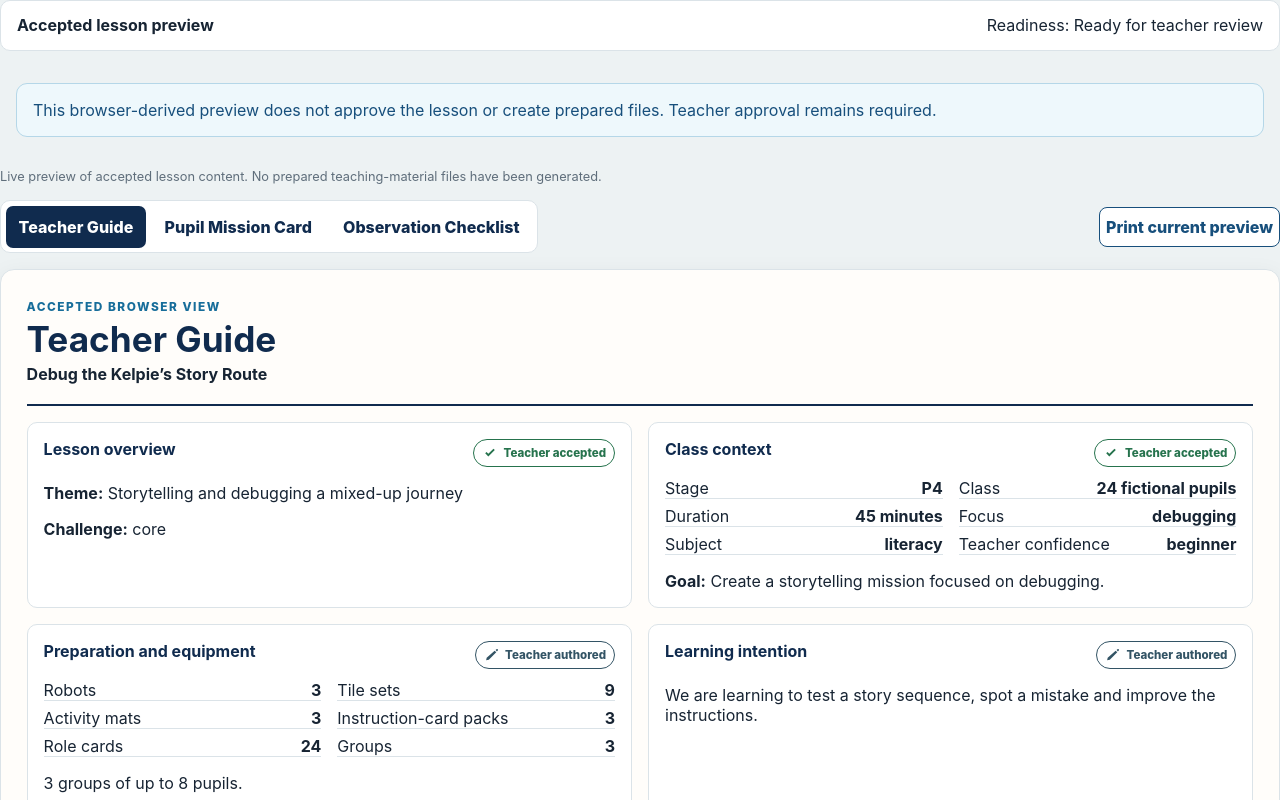
Test: accepted lesson preview › defaults to one Teacher Guide article and switches among exactly three outputs
Click the button "Pupil Mission Card": click(238, 227) [152, 206, 325, 248]
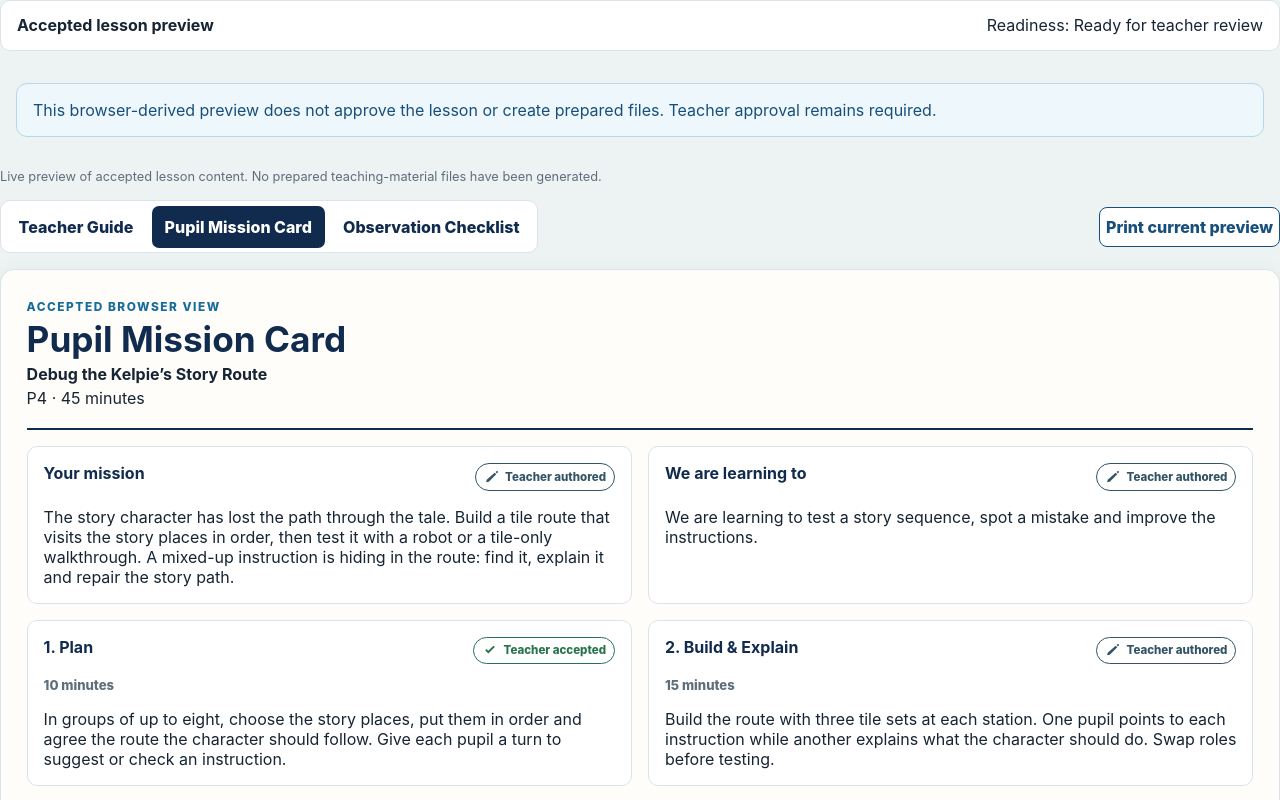
Now the button "Pupil Mission Card" is marked as current, box [152, 206, 325, 248]
Now the button "Teacher Guide" does not have attribute aria-current, box [6, 206, 146, 248]
Click the button "Observation Checklist": click(431, 227) [330, 206, 532, 248]
(page scrolled)
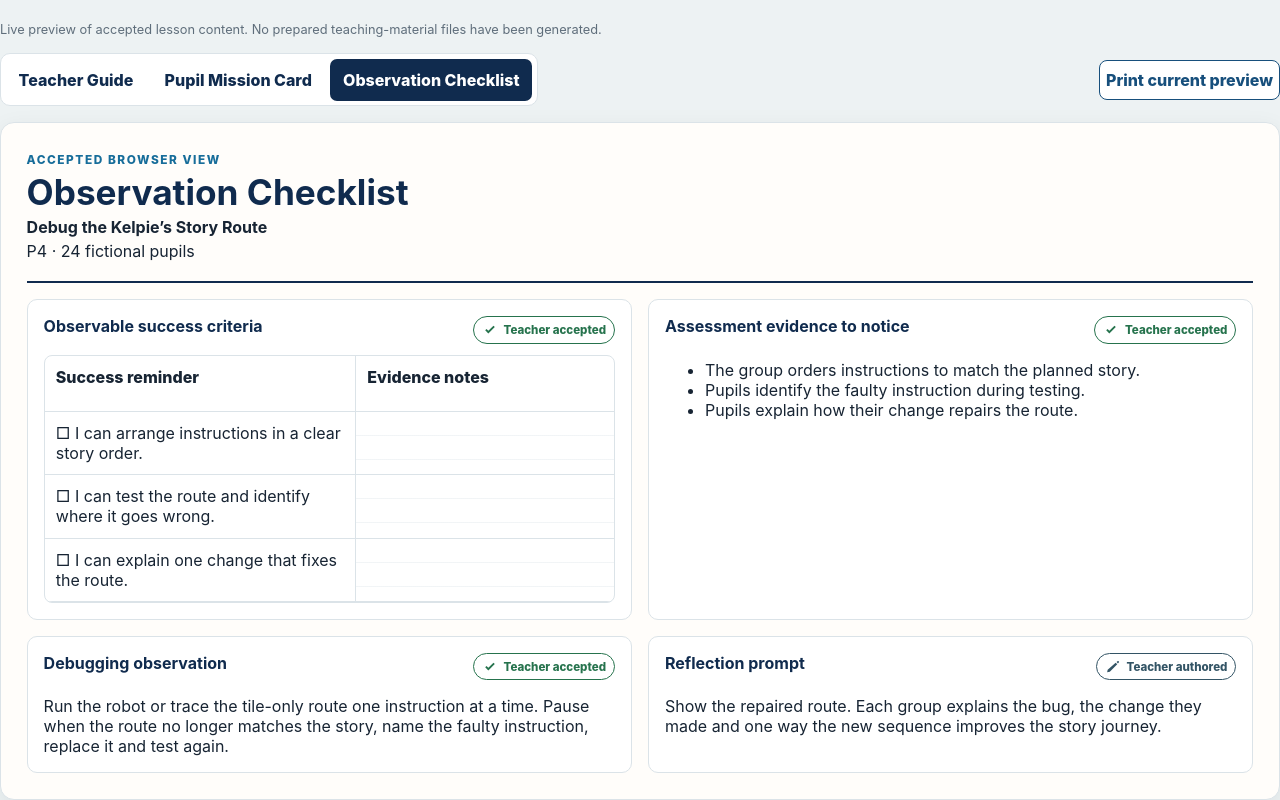
Now the element "Observation Checklist" is shown
